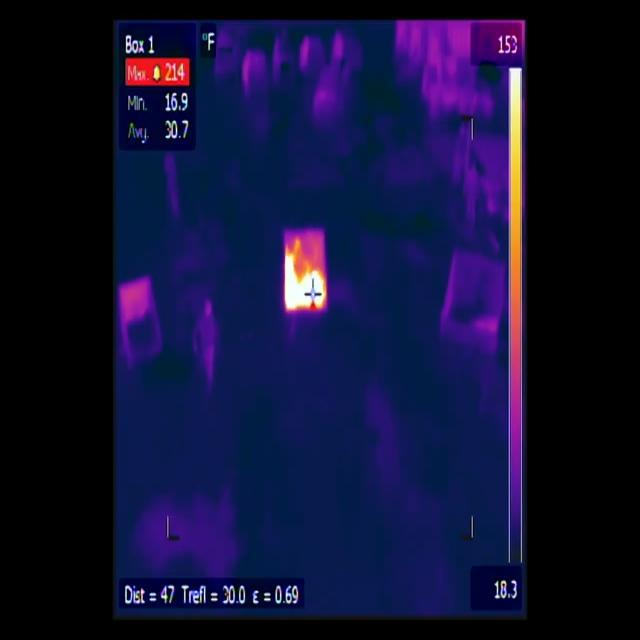fire: (285, 238, 329, 316)
